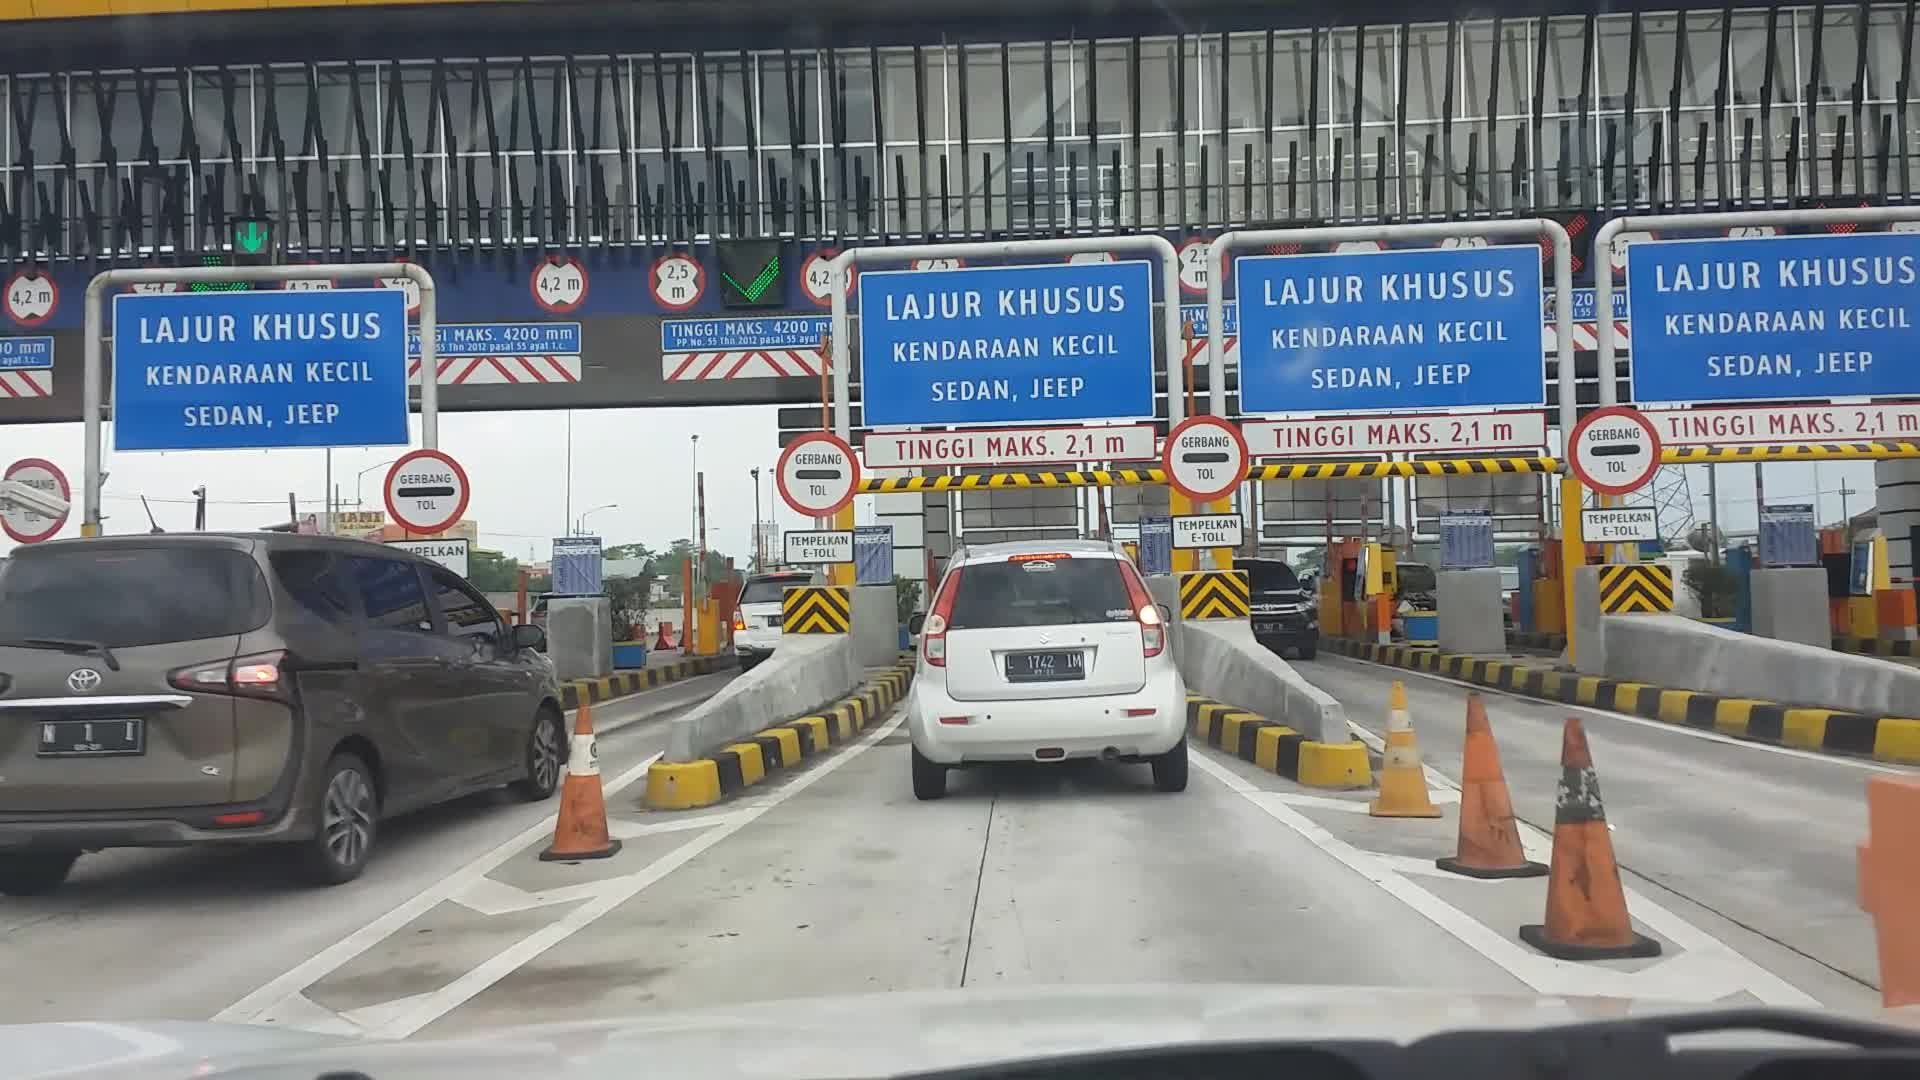plate_positive: (40, 720, 140, 750), (1006, 651, 1084, 680)
